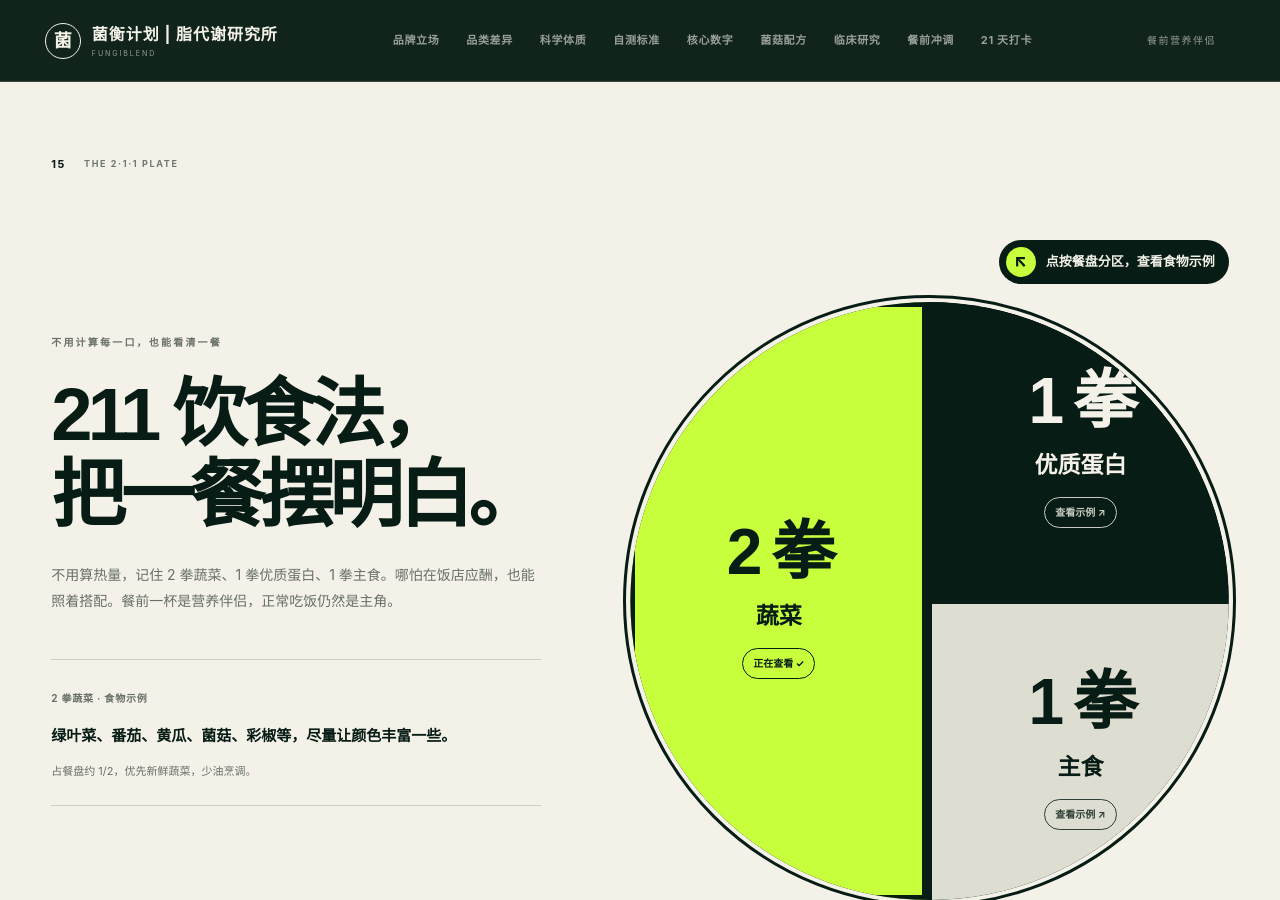
Test case: priority lifestyle sections › switches 211 plate examples by click and keyboard
(page scrolled)
Click the tab named "1 拳优质蛋白": [1080, 450] box [932,302,1229,599]
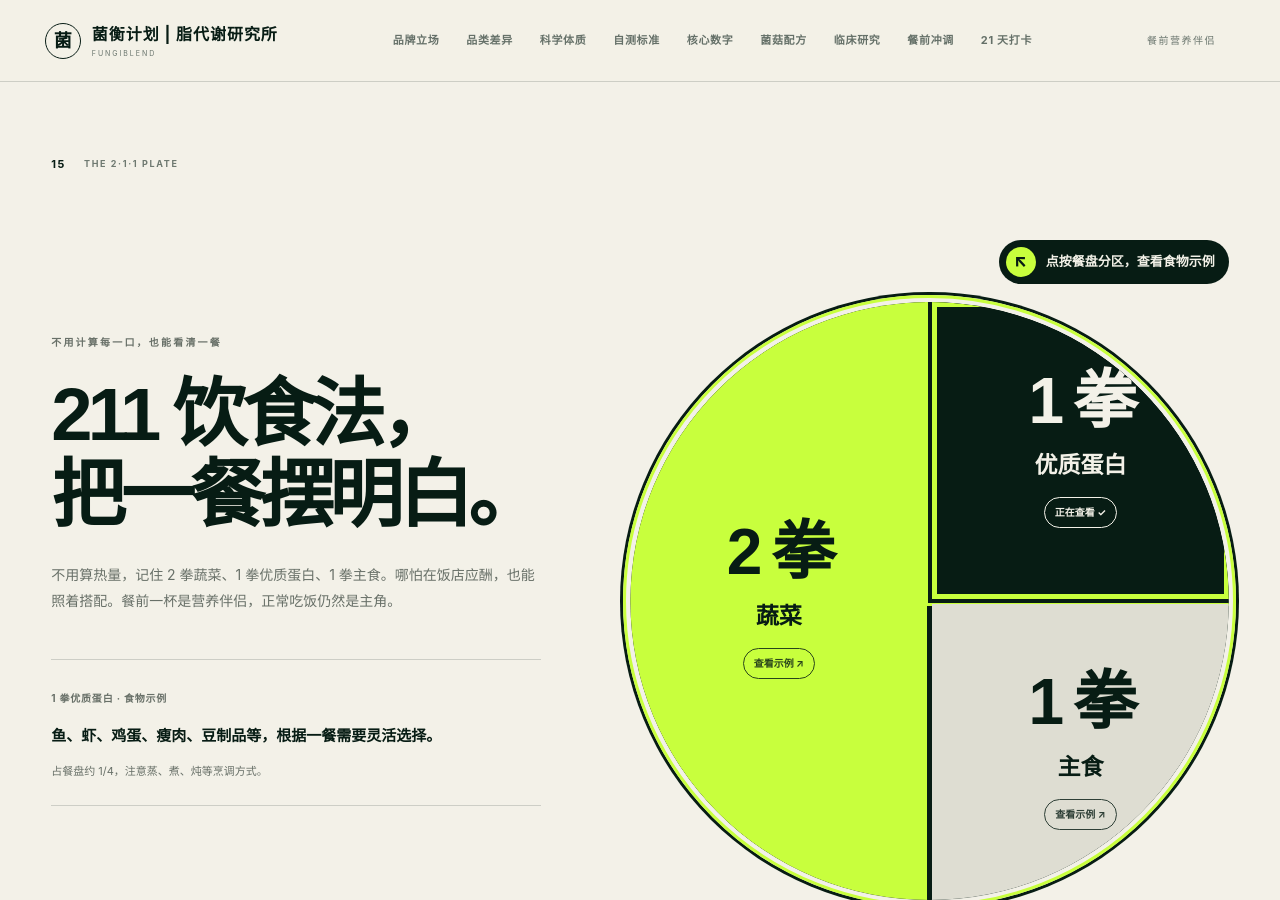
Now the panel shows "鱼、虾、鸡蛋、瘦肉、豆制品", box [51,726,441,745]
Press Arrowright
(page scrolled)
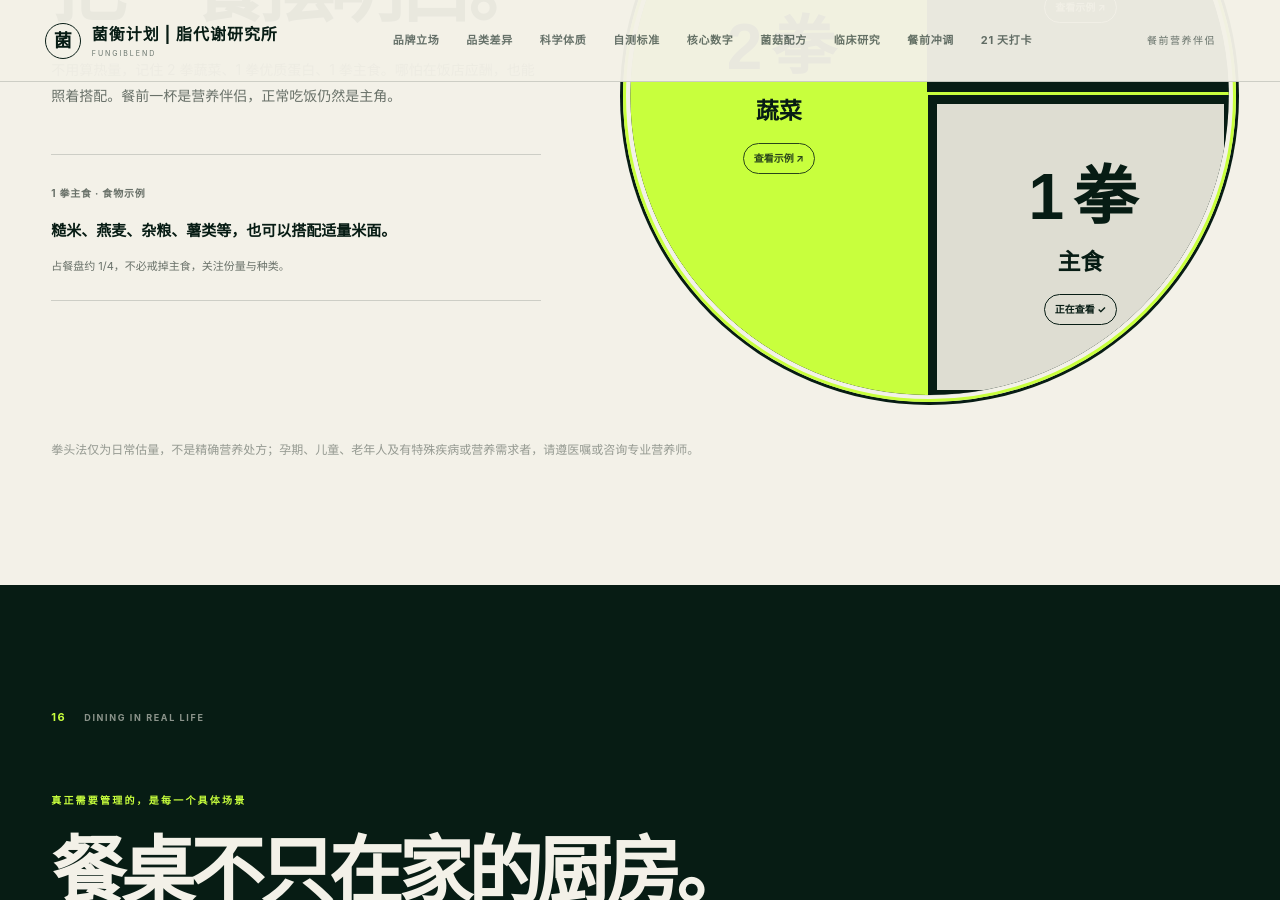
Expected: the text "拳头法仅为日常估量，不是精确营养处方；孕期、儿童、老年人及有特殊疾病或营养需求者，请遵医嘱或咨询专业营养师。" is shown, [51,442,699,457]
Now the panel shows "糙米、燕麦、杂粮、薯类", box [51,221,396,240]
